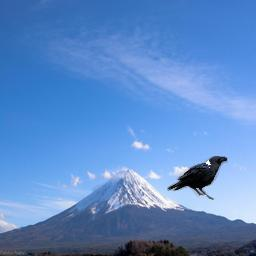Crow: (167, 156, 228, 200)
